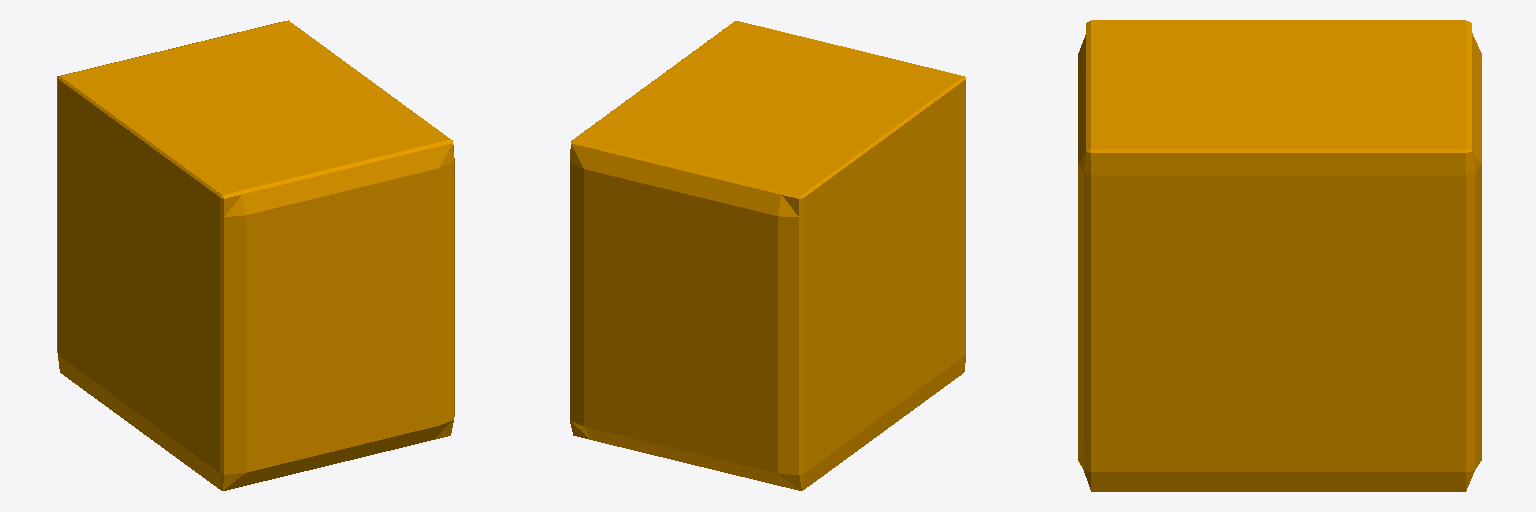
The robot description file, URDF, robot "cylinder_box_45":
<?xml version="1.0" encoding="utf-8"?>  <robot name="cylinder_box_45">   <link name="cylinder_box_45">     <visual>       <geometry>         <mesh filename="../meshes/box/box_45.stl" scale="1 1 1"/>       </geometry>     </visual>     <collision>       <geometry>         <mesh filename="../meshes/box/box_45.stl" scale="1 1 1"/>       </geometry>     </collision>     <inertial>        <origin         xyz="0 0 0"         rpy="0 0 0" />       <mass value="0.45845937292606986"/>       <origin rpy="0 0 0" xyz="0 0 0"/>       <inertia ixx="0.0005252723083605473" ixy="-2.928811678738127e-09" ixz="-1.659270418287196e-08" iyy="0.00041424881867558005" iyz="-4.152209227335607e-08" izz="0.00044749024276442574"/>     </inertial>   </link>  </robot>

--- Facts derived from the render (not from the file) ---
The picture shows the robot from 3 angles, left to right: view 1: azimuth 30°, elevation 25°; view 2: azimuth 150°, elevation 25°; view 3: azimuth 270°, elevation 25°; orthographic projection.
Model cylinder_box_45 with 1 links and 0 joints (none), rooted at cylinder_box_45, posed every joint at zero.
Links seen in each view (by area): view 1: cylinder_box_45; view 2: cylinder_box_45; view 3: cylinder_box_45.
Link boxes in pixels (x1=…): cylinder_box_45: x1=57, y1=20, x2=454, y2=490; cylinder_box_45: x1=570, y1=21, x2=965, y2=490; cylinder_box_45: x1=1078, y1=20, x2=1481, y2=491.
Bounding box of the posed robot: 0.0666 × 0.0861 × 0.0806 m (x, y, z).
Meshes: 1 distinct files referenced, 1 mesh visuals loaded (1 binary STL).